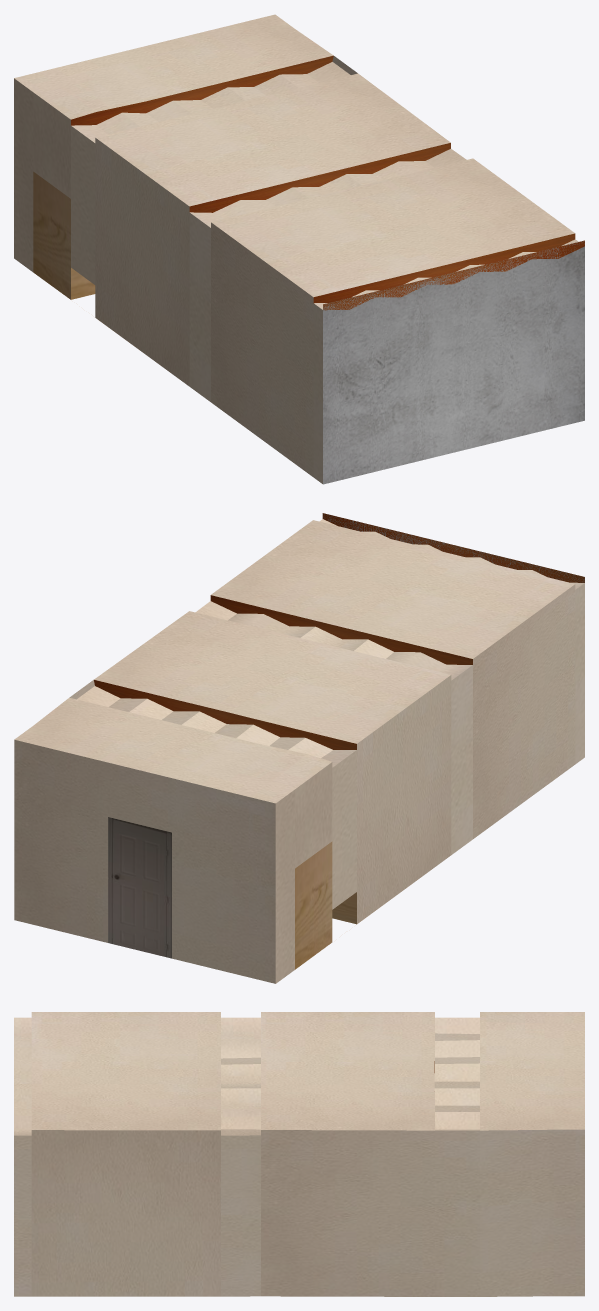
File: schietbaan_texture 1.FBX
The picture shows the model from 3 angles, top to bottom: view 1: azimuth 30°, elevation 25°; view 2: azimuth 150°, elevation 25°; view 3: azimuth 270°, elevation 25°; orthographic projection. The views are drawn at different scales.
Visible parts, largest first — view 1: Box001; view 2: Box001; view 3: Box001.
Part boxes in pixels (left/top/right/bottom): Box001: left=14, top=14, right=584, bottom=484; Box001: left=14, top=513, right=584, bottom=983; Box001: left=14, top=1012, right=584, bottom=1296.
Size of the model in its own units: 48.93 by 32.31 by 99.56.
Materials: 1 (1 with a texture image).
